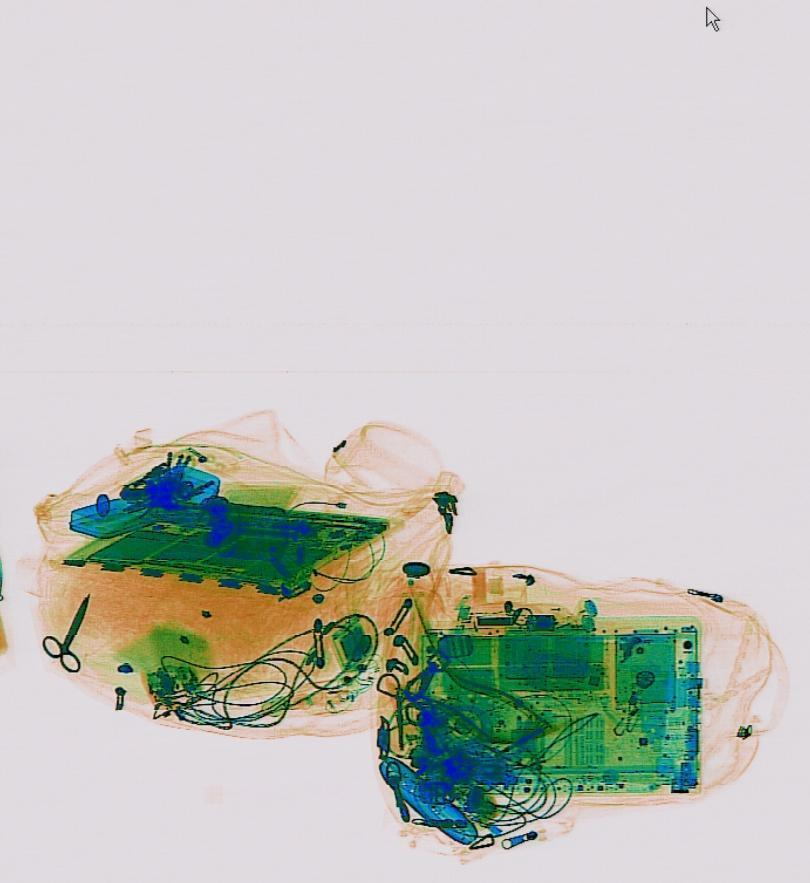Scissors: (33, 584, 109, 673)
